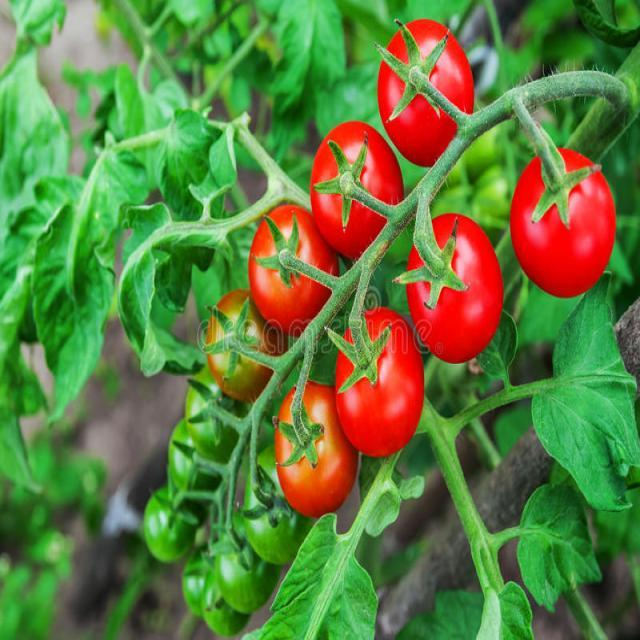kirmizi: (306, 82, 424, 248), (308, 322, 432, 462), (536, 142, 626, 290)
